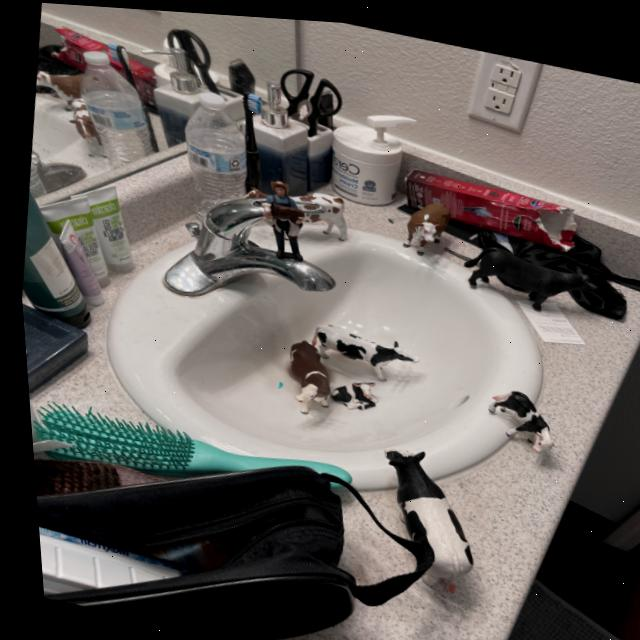cow: (370, 429, 475, 595), (462, 235, 595, 316), (304, 318, 416, 384), (479, 375, 553, 458), (278, 333, 331, 411), (395, 188, 452, 254), (289, 186, 345, 241), (324, 375, 373, 410), (257, 197, 303, 222), (243, 184, 271, 201)
person: (263, 177, 295, 204)
